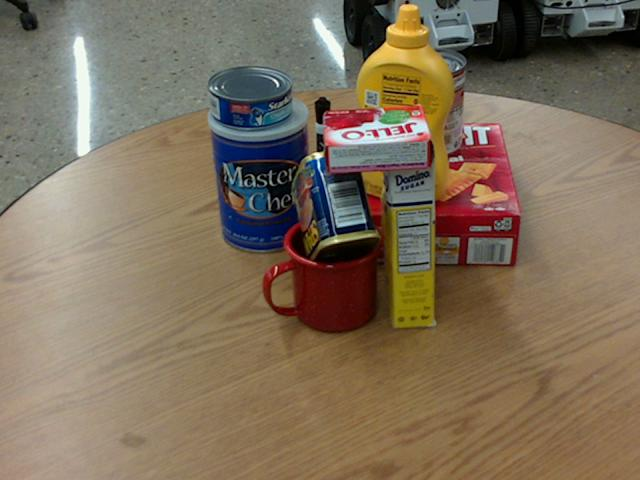cracker_box: (358, 122, 518, 265)
gelatin_box: (322, 104, 432, 172)
large_marker: (313, 98, 331, 198)
master_chef_can: (208, 91, 312, 251)
mug: (259, 214, 380, 333)
mustard_bottle: (354, 4, 453, 201)
potted_meat_can: (291, 149, 380, 270)
sugar_box: (378, 117, 433, 329)
tomato_soup_can: (402, 48, 464, 157)
tuna_fish_can: (206, 65, 291, 128)
